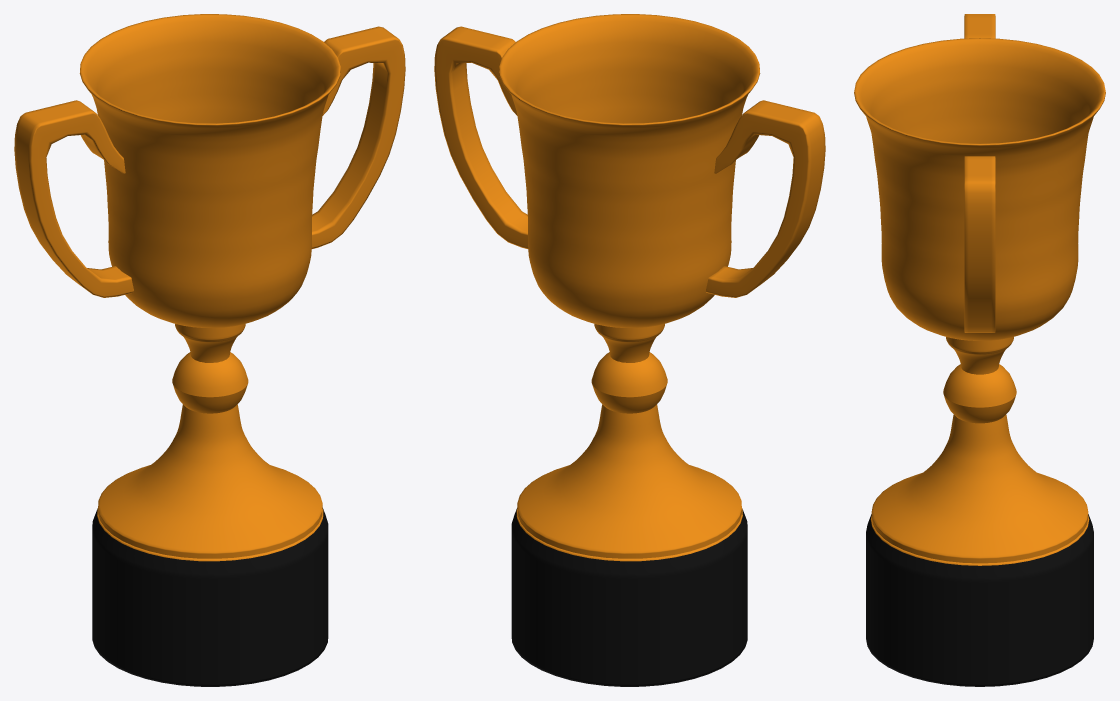
File: pokal.glb
3 views of the same model, side by side, from view 1: azimuth 30°, elevation 25°; view 2: azimuth 150°, elevation 25°; view 3: azimuth 270°, elevation 25° (orthographic). The views are drawn at different scales.
Visible parts, largest first — view 1: cup.002; view 2: cup.002; view 3: cup.002.
Part boxes in pixels (x1,y1,x2,y2): cup.002: [14, 14, 405, 686]; cup.002: [434, 14, 825, 686]; cup.002: [854, 14, 1105, 686].
Bounding box in the file's own units: 0.5224 × 0.7558 × 0.315.
